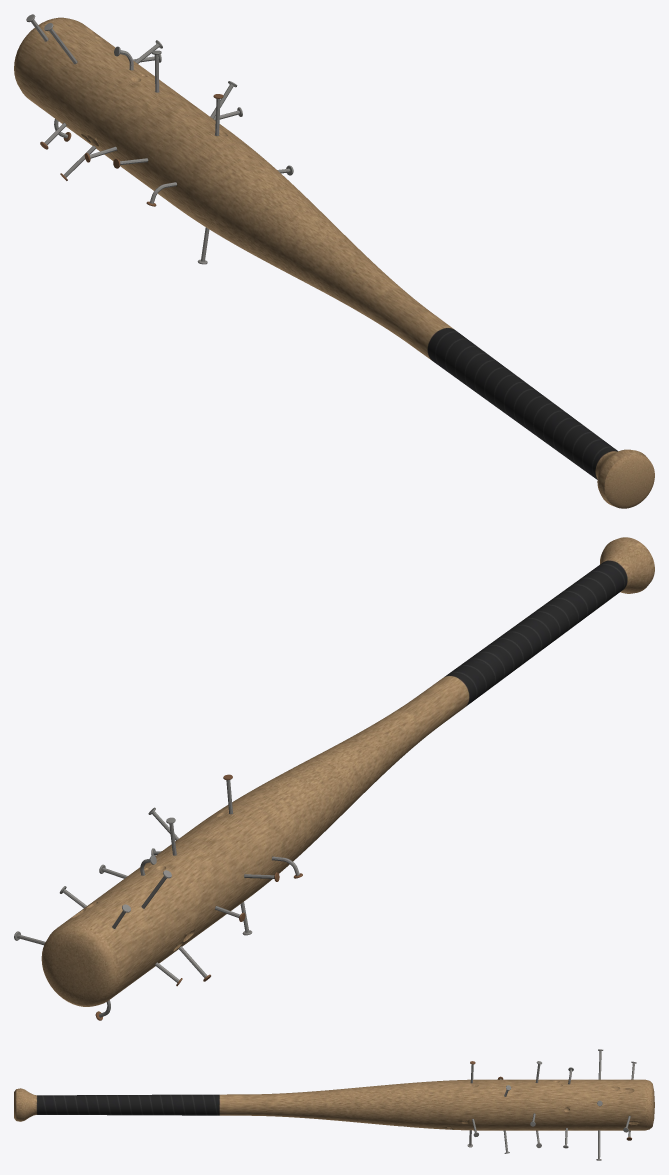
Rendered from bastao_pregos.glb.
3 views of the same model, one above another, from view 1: azimuth 30°, elevation 25°; view 2: azimuth 150°, elevation 25°; view 3: azimuth 270°, elevation 25° (orthographic). The views are drawn at different scales.
Visible parts, largest first — view 1: bastao_pregos_taco; view 2: bastao_pregos_taco; view 3: bastao_pregos_taco.
Part boxes in pixels (box(x1,y1,x2,y2)): bastao_pregos_taco: box(14, 14, 654, 508); bastao_pregos_taco: box(14, 537, 654, 1020); bastao_pregos_taco: box(14, 1049, 654, 1160).
Bounding box in the file's own units: 0.1328 × 0.1289 × 0.841.
Materials: 1 (1 with a texture image).
